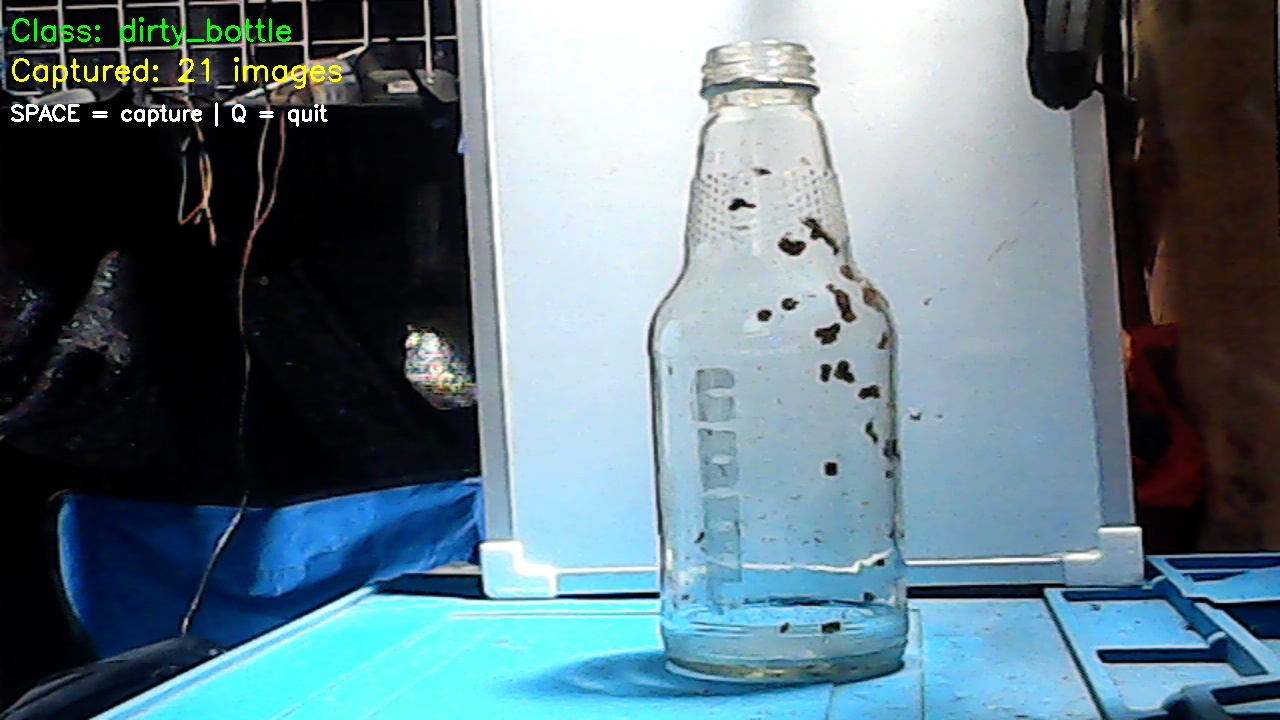dirty_bottle: (621, 38, 913, 679)
